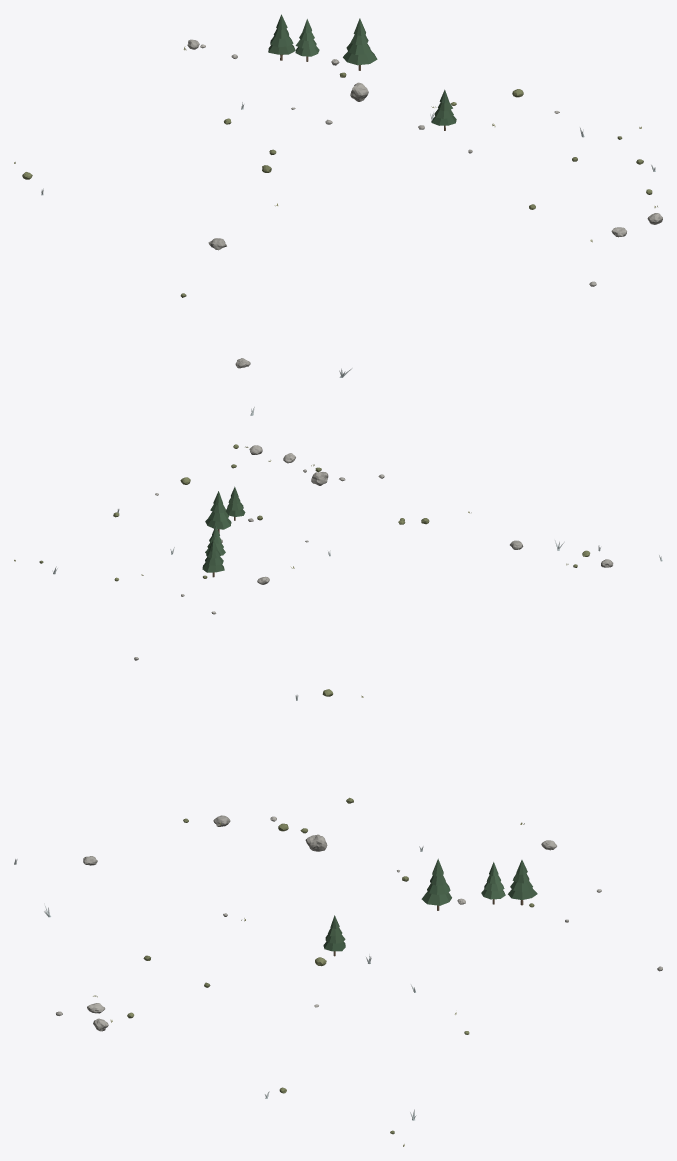
Rendered from coast_land_scatter_c11_25.glb.
3 renders of one model, top to bottom at view 1: azimuth 30°, elevation 25°; view 2: azimuth 150°, elevation 25°; view 3: azimuth 270°, elevation 25°, orthographic. The views are drawn at different scales.
Parts seen in each view (by area): view 1: coast_land_scatter_c11_25; view 2: coast_land_scatter_c11_25; view 3: coast_land_scatter_c11_25.
Boxes of the visible parts, x1,y1,x2,y2 form: coast_land_scatter_c11_25: [14, 14, 662, 415]; coast_land_scatter_c11_25: [14, 444, 662, 660]; coast_land_scatter_c11_25: [14, 689, 662, 1146].
Size of the model in its own units: 186 by 44.24 by 161.
